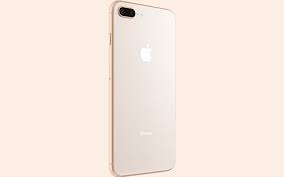iphone8: (106, 1, 178, 176)
